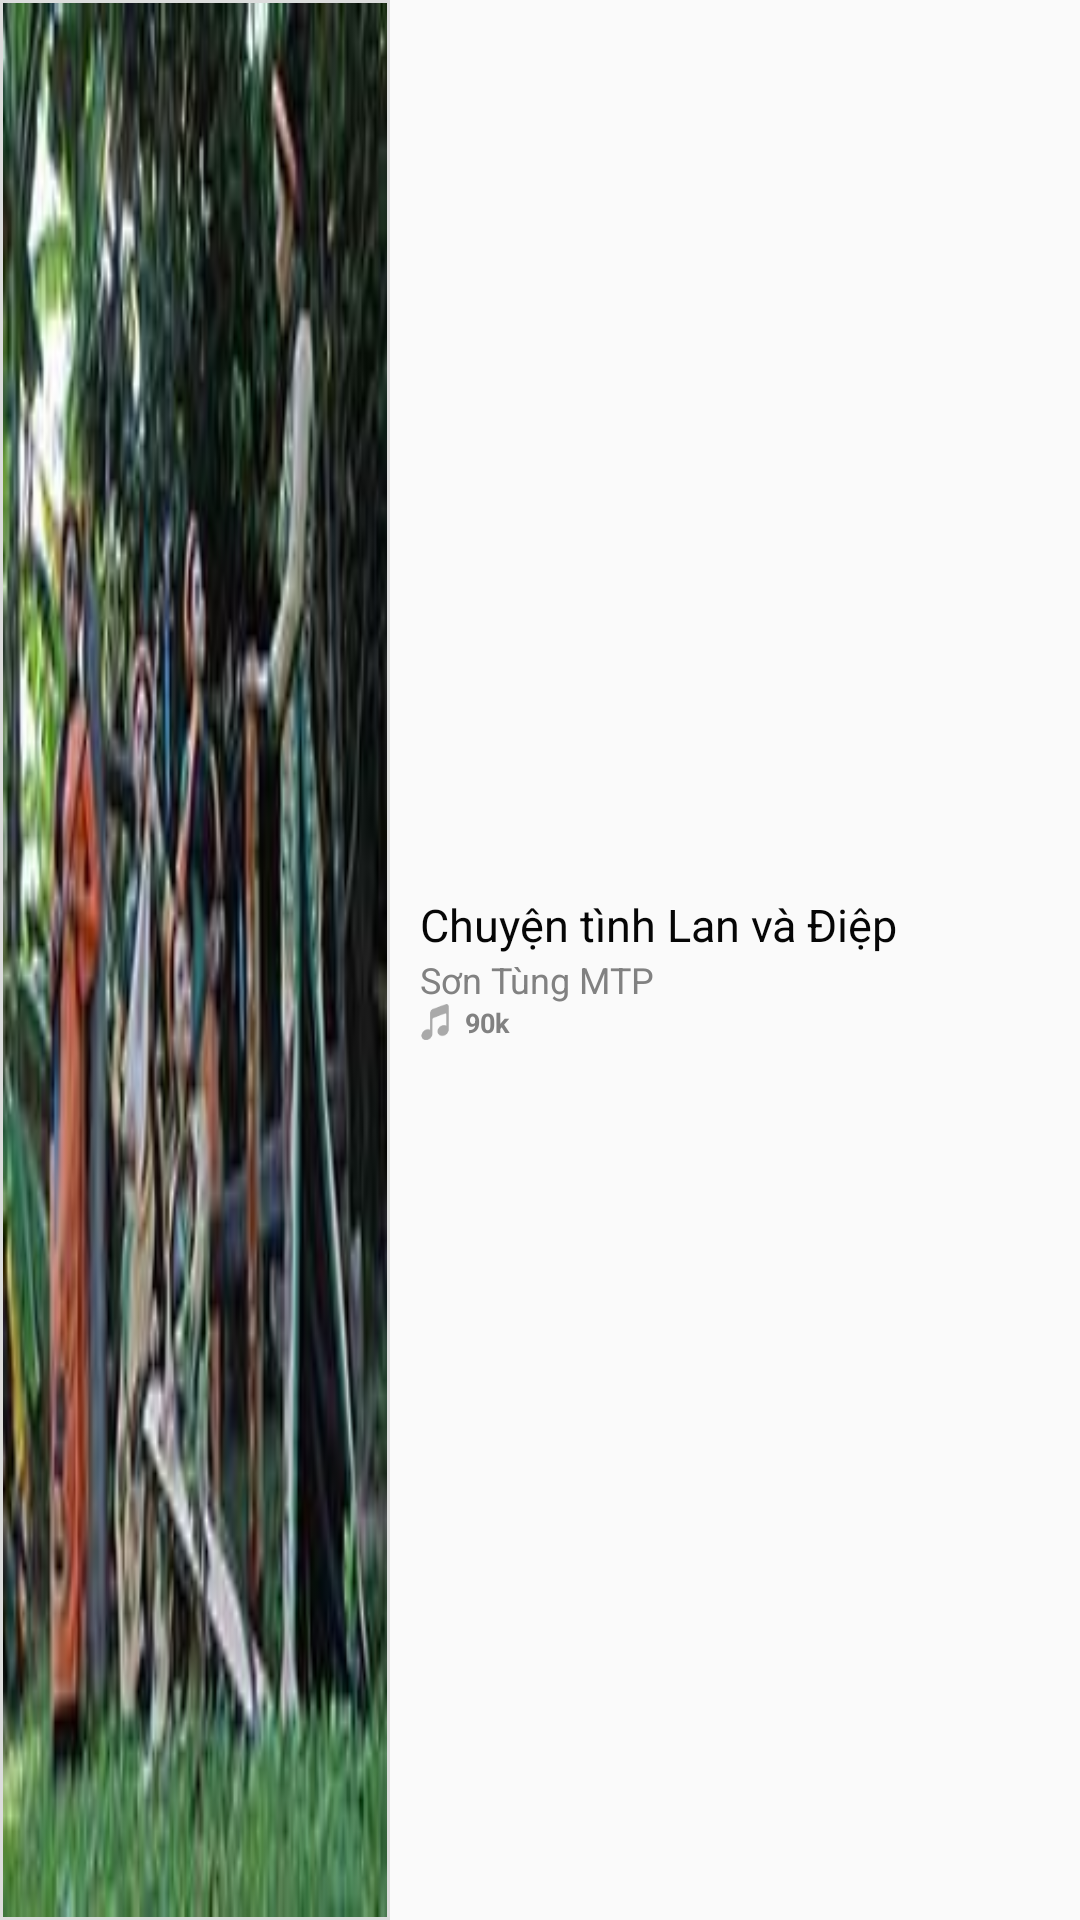

Screen size 1080px×1920px. Icon name, then its center in pixels as (x=x, y=y):
listen: (x=435, y=1022)
